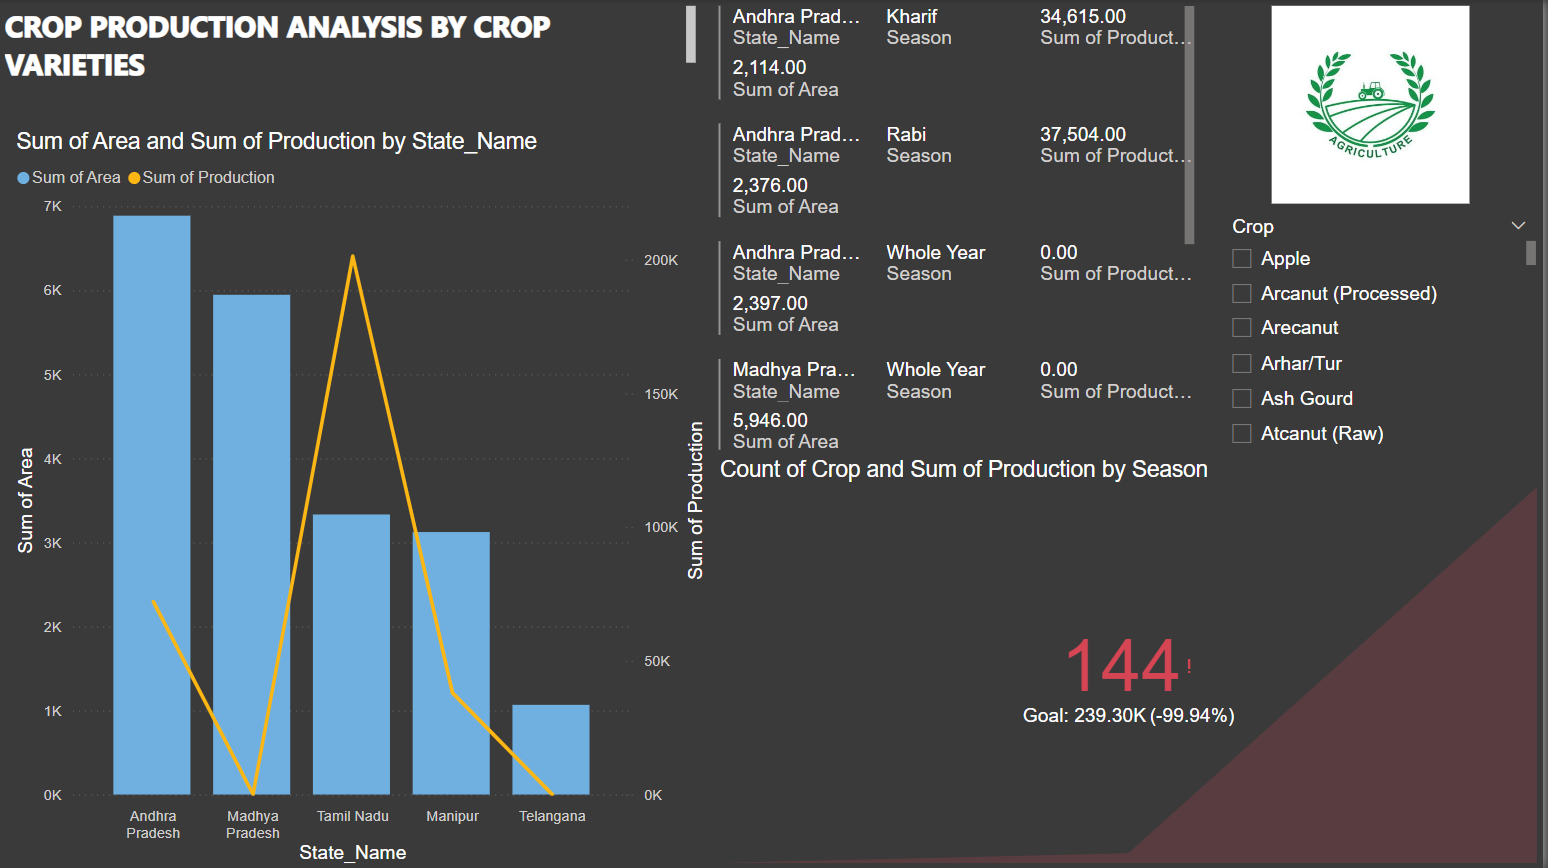

What the dashboard file says about the page in this screenshot:
{"tool":"powerbi","page":{"name":"ANALYSIS BY CROP","canvas":[1280,720],"ordinal":1},"visuals":[{"type":"lineStackedColumnComboChart","fields":{"Category":["Crop Production data.State_Name"],"Y":["Sum(Crop Production data.Area)"],"Y2":["Sum(Crop Production data.Production)"]},"box":[9.3,106.7,582.4,613.5],"z":0},{"type":"slicer","fields":{"Values":["Crop Production data.Crop"]},"box":[1009.3,174.1,269.4,204.1],"z":1000},{"type":"kpi","fields":{"TrendLine":["Crop Production data.Season"],"Goal":["Sum(Crop Production data.Production)"],"Indicator":["CountNonNull(Crop Production data.Crop)"]},"box":[592.5,378.1,687.3,342.4],"z":2000},{"type":"multiRowCard","fields":{"Values":["Crop Production data.State_Name","Crop Production data.Season","Sum(Crop Production data.Production)","Sum(Crop Production data.Area)"]},"box":[592,0,404,378],"z":3000},{"type":"image","box":[996,0,283,174],"z":4000},{"type":"textbox","box":[0,0,582.6,71.4],"z":5000}]}

Visuals, with their boxes in screenshot pixels (x1, y1, x2, y2), scaled from the page's 1280x720 canvas onto the 1548x868 screenshot:
lineStackedColumnComboChart - Crop Production data.State_Name x Sum(Crop Production data.Area): bbox=(11, 129, 716, 867)
slicer - Crop Production data.Crop: bbox=(1221, 210, 1546, 456)
kpi - Crop Production data.Season x Sum(Crop Production data.Production): bbox=(717, 456, 1547, 867)
multiRowCard - Crop Production data.State_Name x Crop Production data.Season: bbox=(716, 0, 1205, 456)
image: bbox=(1205, 0, 1547, 210)
textbox: bbox=(0, 0, 705, 86)
